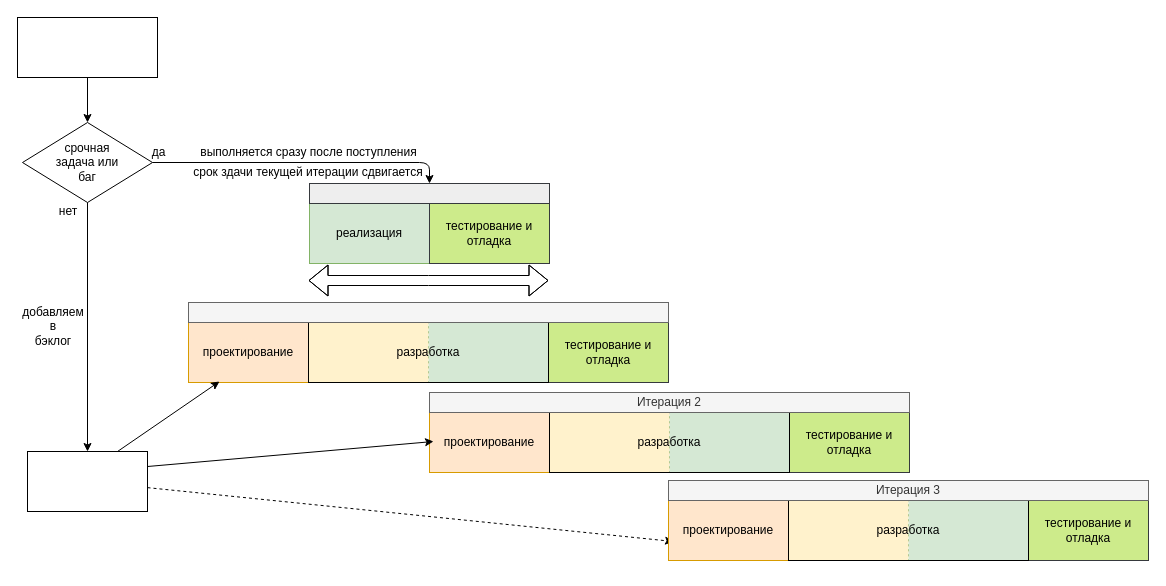
This 1166x586 diagram has some shape labels left out. The shapes that lost their labels are listed below. From the top down, each one's centre as x and y in pixels, then its label:
At point 87,47: "Баги и задачи от саппорта".
At point 429,193: "Срочная задача / Ошибка".
At point 428,312: "Итерация 1".
At point 87,481: "Бэклог (список всех задач)".
